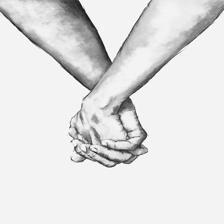Hand: (27, 7, 151, 160), (59, 59, 144, 192), (73, 79, 129, 169)
